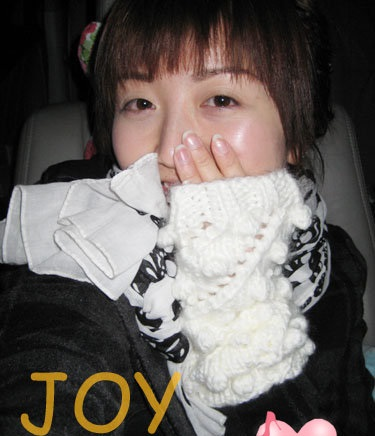face: (109, 13, 277, 247)
